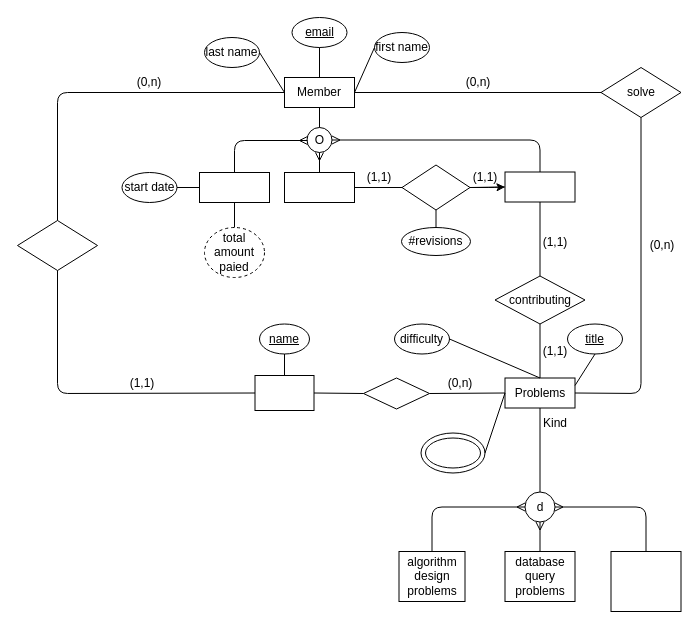
This 699x629 diagram has some shape labels left out. The centre of each missing label's shape, as x and y in pixels:
"contains" belongs at point (396, 393).
"contributor" belongs at point (539, 186).
"create" belongs at point (57, 245).
"data structure design problems" belongs at point (645, 581).
"help" belongs at point (435, 187).
"Paying Member" belongs at point (234, 187).
"Problem pools" belongs at point (284, 392).
"related topics" belongs at point (452, 452).
"Staff" belongs at point (319, 187).
